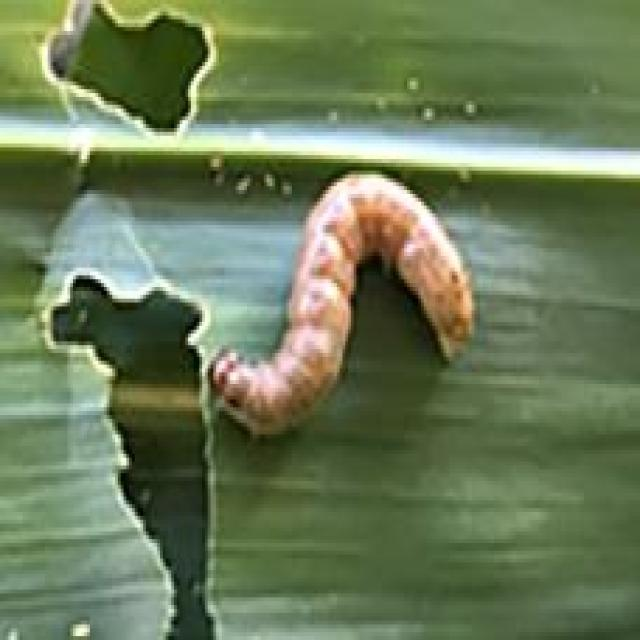army worm: (205, 160, 483, 439)
